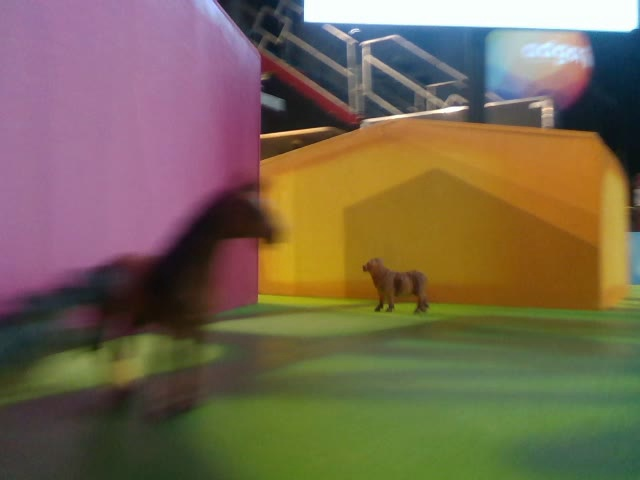toy: (360, 256, 429, 315)
